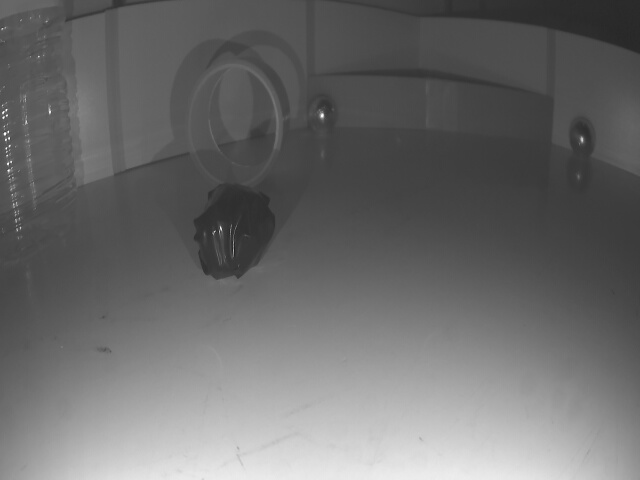Dead: (194, 186, 277, 280)
Live: (308, 95, 337, 136), (570, 113, 594, 156)
Point: (311, 76, 554, 133)
